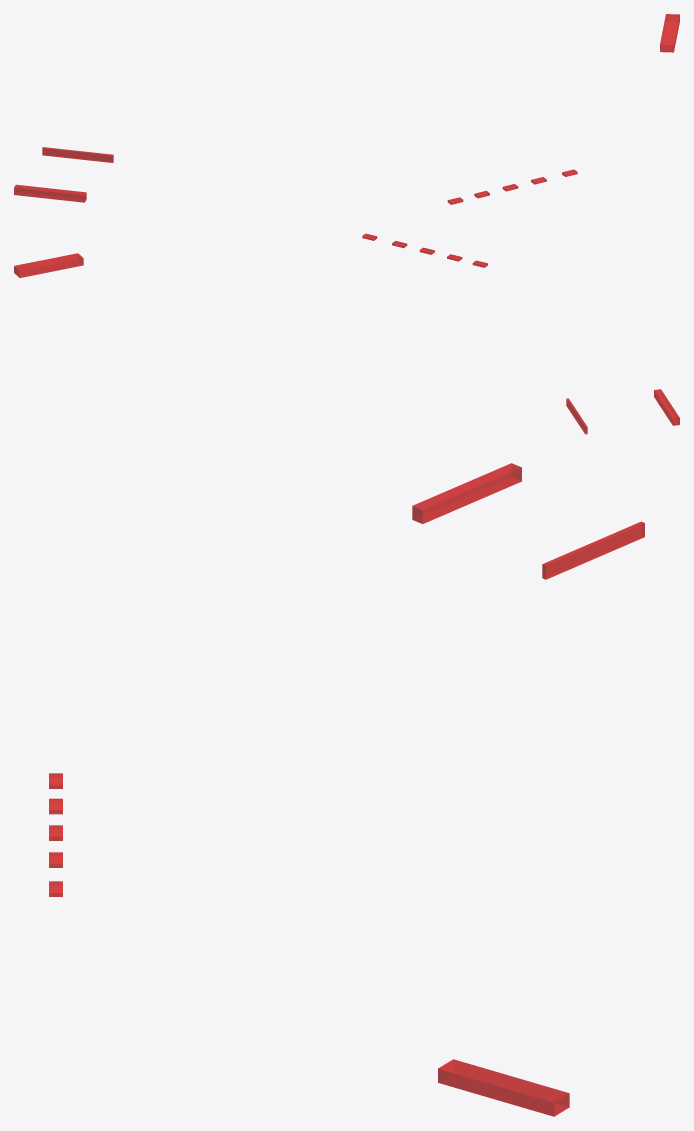
Rendered from Track5_Stadium_s.fbx.
The picture shows the model from 3 angles, top to bottom: view 1: azimuth 30°, elevation 25°; view 2: azimuth 150°, elevation 25°; view 3: azimuth 270°, elevation 25°; orthographic projection. The views are drawn at different scales.
Visible parts, largest first — view 1: polySurface1; view 2: polySurface1; view 3: polySurface1.
Part boxes in pixels (x1,y1,x2,y2): polySurface1: (14,14,679,204); polySurface1: (14,233,679,434); polySurface1: (49,463,644,1116).
Size of the model in its own units: 14099 by 146 by 5553.
